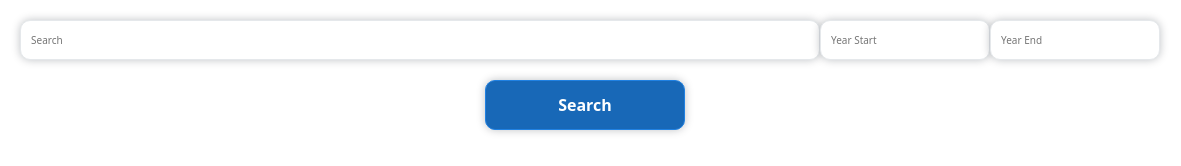
Scenario: Testing Search › year start should fails if date > today()
The image size is (1181, 166).
In the field with test id "year-start-input": [905, 40] box [820,20,990,60], type "2050"
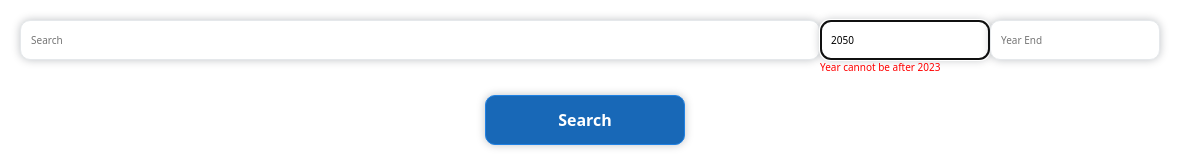
Expected: the text "Year cannot be after 2023" is shown, [820,60,940,74]
